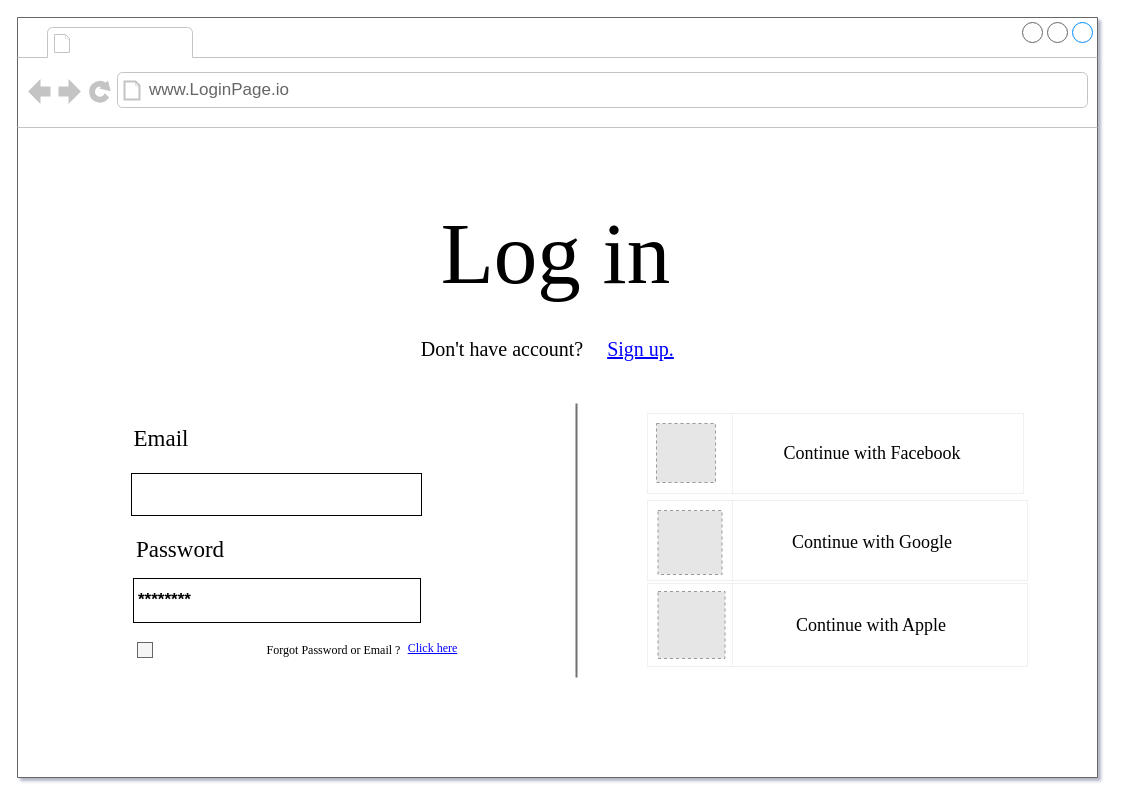
The diagram is 1121 pixels wide and 801 high, and some of its shapes have lost their labels. Grey dashed boxes stand in for pictures. The shapes that lost their labels are listed below. From the top down, each one's centre as x and y in pixels, then its label:
point (132, 42): LoginPage
point (144, 650): Remember Me
